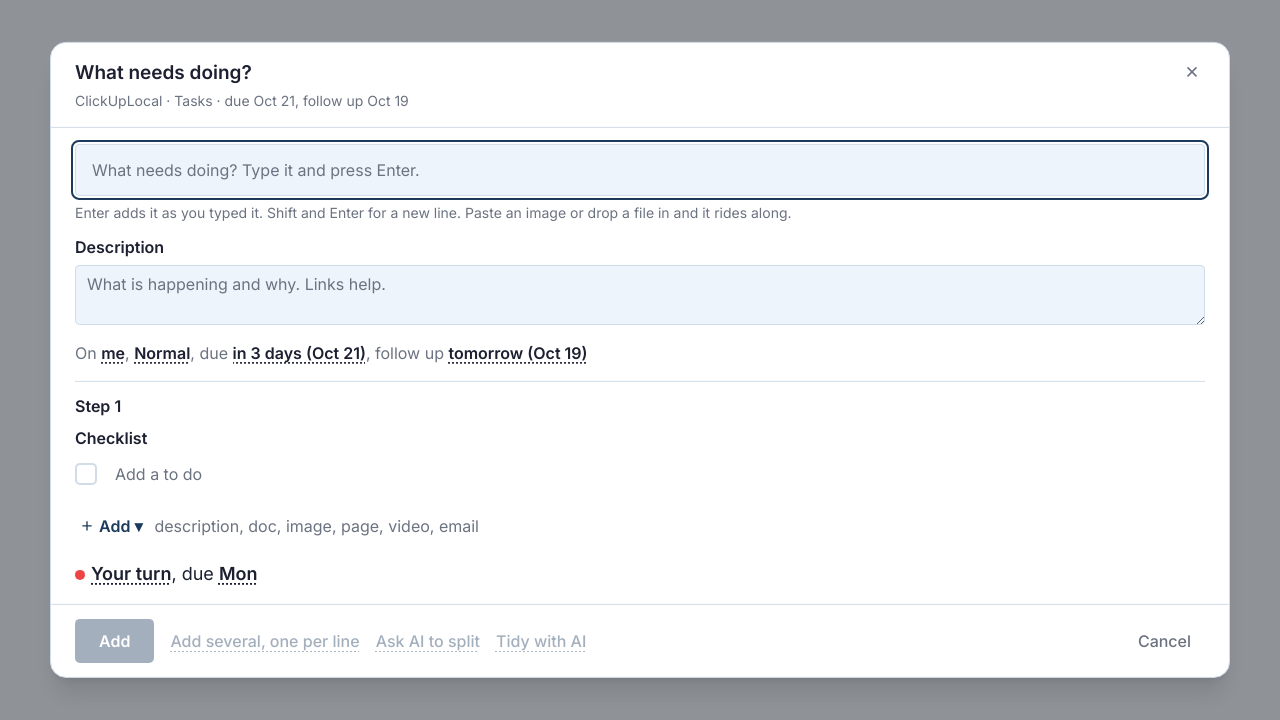
Test case: the box with no client (Derek, 2026-10-14) › on a list in Projects keeps the owner but never offers waiting on a client
The width and height of the screenshot is (1280, 720).
Check: the dropdown named "Owner" is shown, box [101, 336, 125, 368]
Click the button "Add ▾": (111, 525) [75, 507, 146, 543]
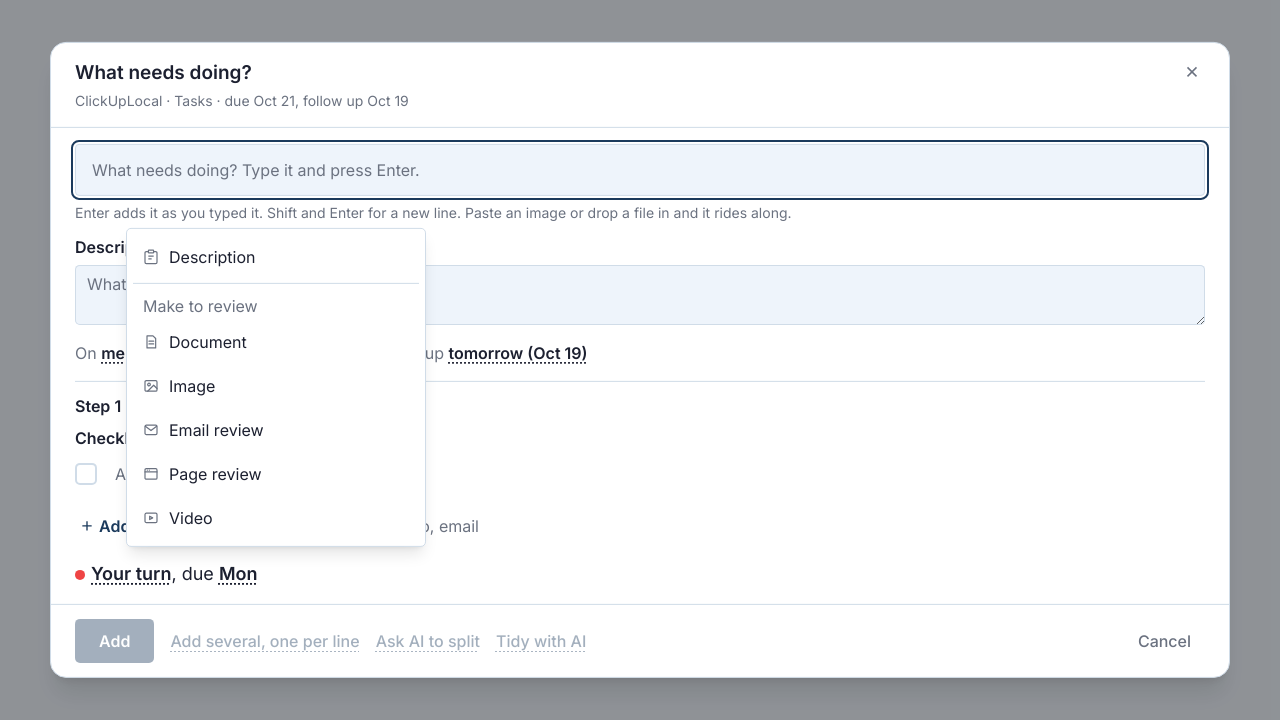
Check: the text "Email review" is shown, box [169, 420, 264, 440]
